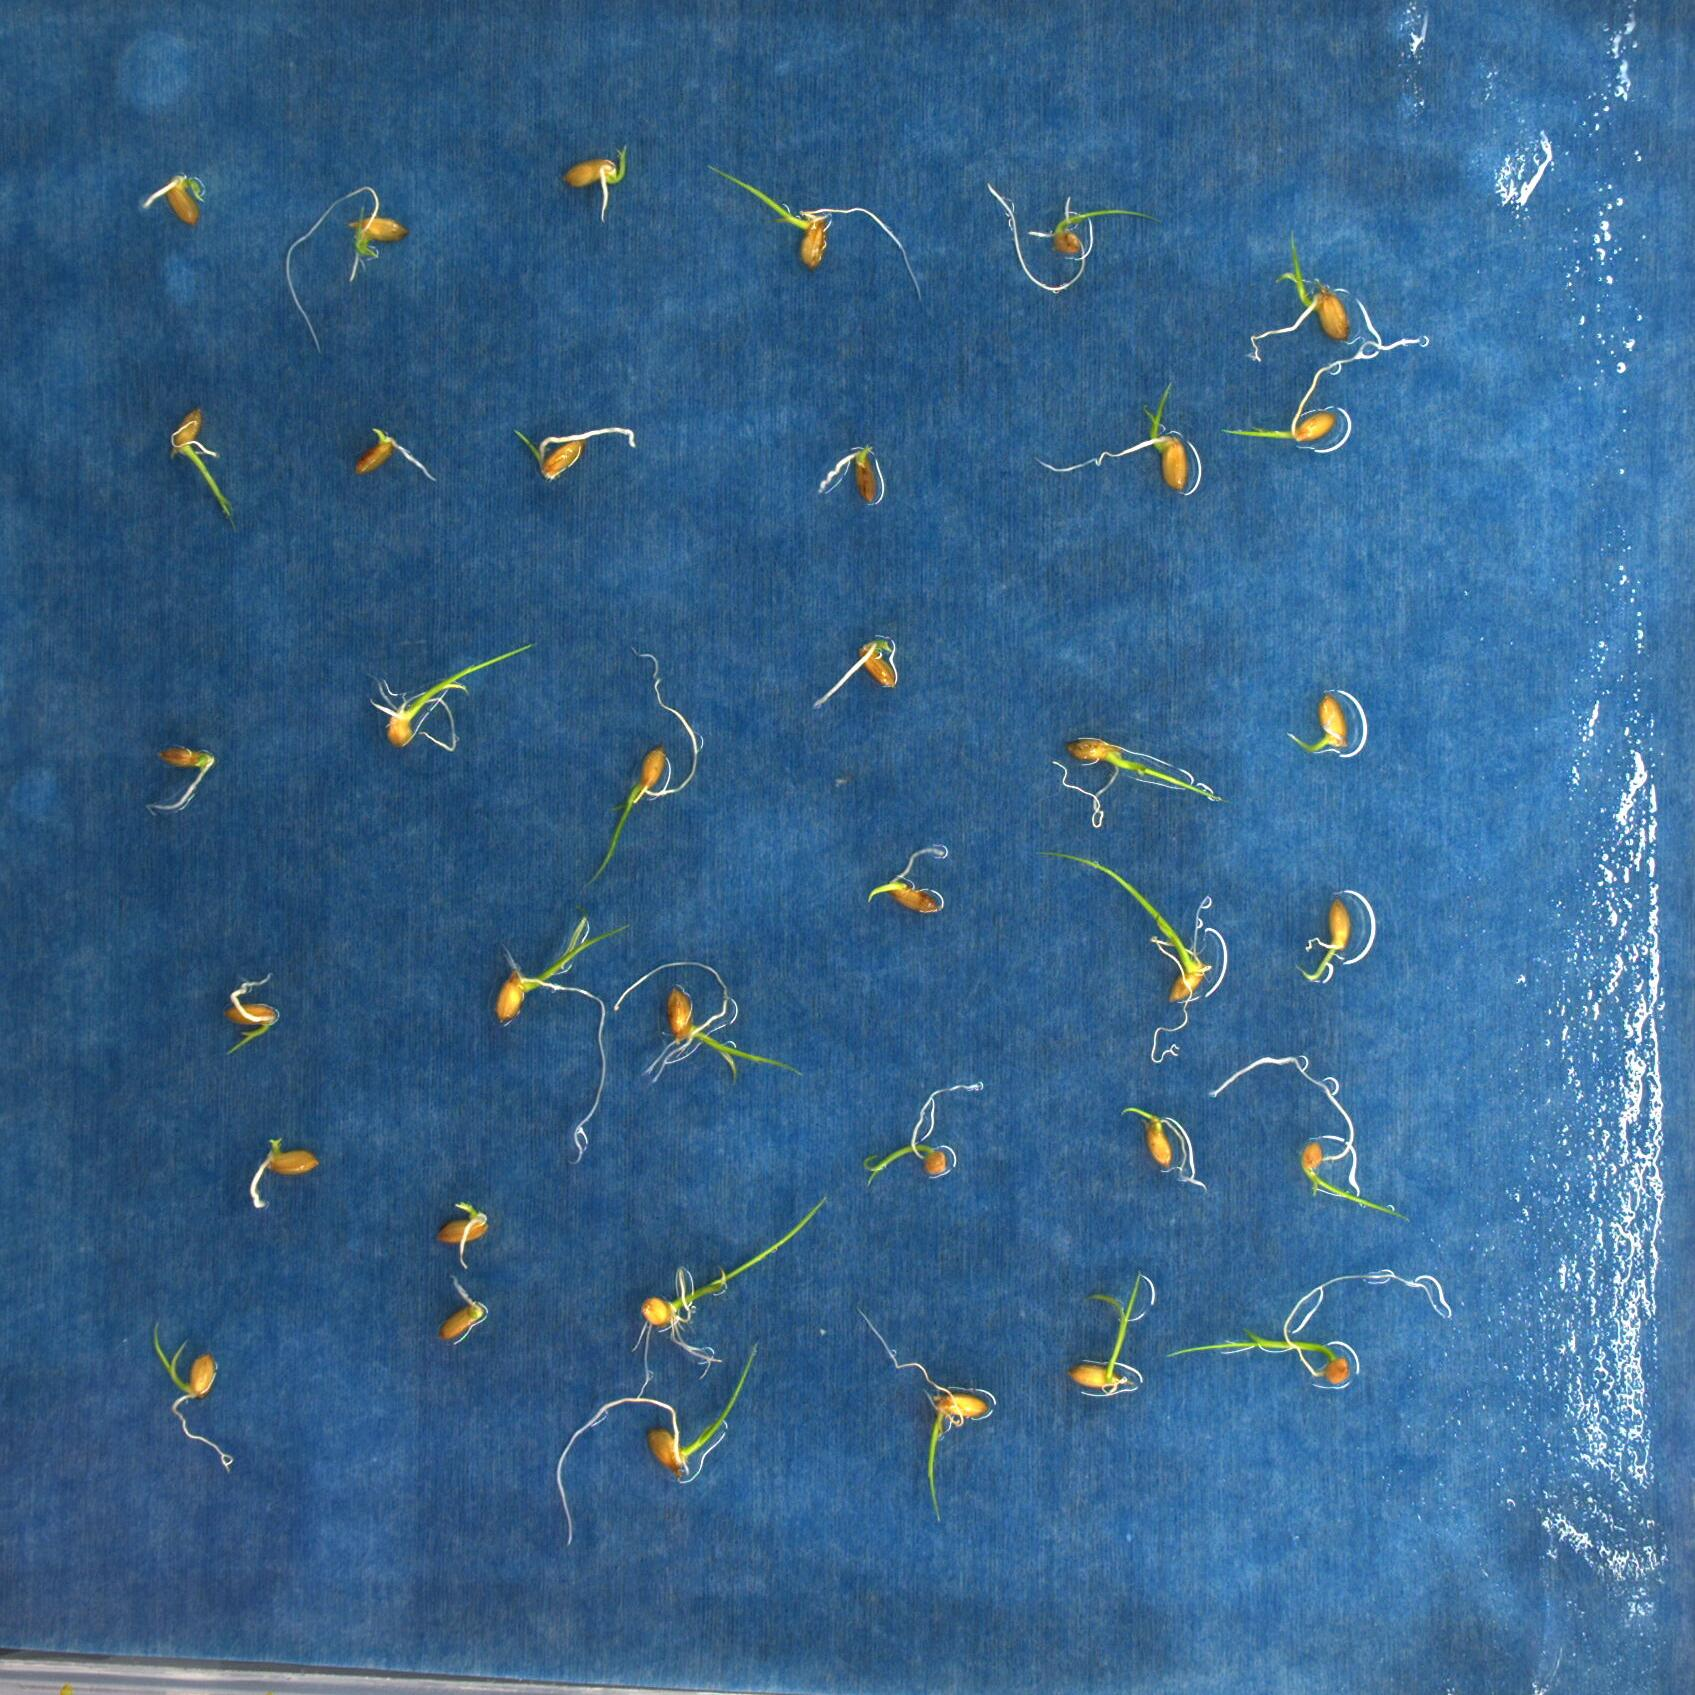not sprout: (813, 633, 899, 706), (248, 1135, 320, 1211), (144, 744, 216, 818), (352, 425, 439, 484), (815, 442, 885, 506), (140, 168, 206, 228), (439, 1273, 490, 1344)
sprout: (557, 1338, 761, 1546), (632, 1194, 827, 1399), (1035, 847, 1212, 1063), (494, 913, 633, 1167), (1167, 1270, 1440, 1386), (706, 158, 924, 303), (858, 1305, 993, 1524), (584, 643, 700, 893), (612, 958, 802, 1087), (284, 183, 407, 352), (986, 179, 1166, 293), (368, 641, 534, 753), (1034, 380, 1191, 497), (1051, 734, 1223, 830), (1301, 1088, 1412, 1225), (1248, 228, 1354, 365), (1217, 352, 1358, 445), (863, 1079, 983, 1187), (151, 1315, 231, 1471), (1068, 1271, 1144, 1391), (168, 408, 239, 532), (512, 421, 635, 480), (866, 843, 950, 917), (559, 144, 629, 224), (219, 972, 279, 1059), (1295, 896, 1352, 986), (1285, 692, 1347, 757), (433, 1198, 487, 1271), (1121, 1105, 1172, 1167)
